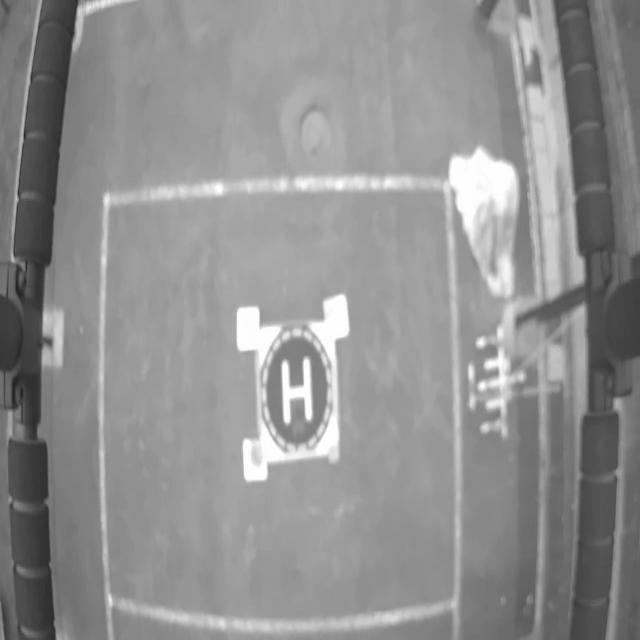Helipad: (282, 356, 314, 425)
